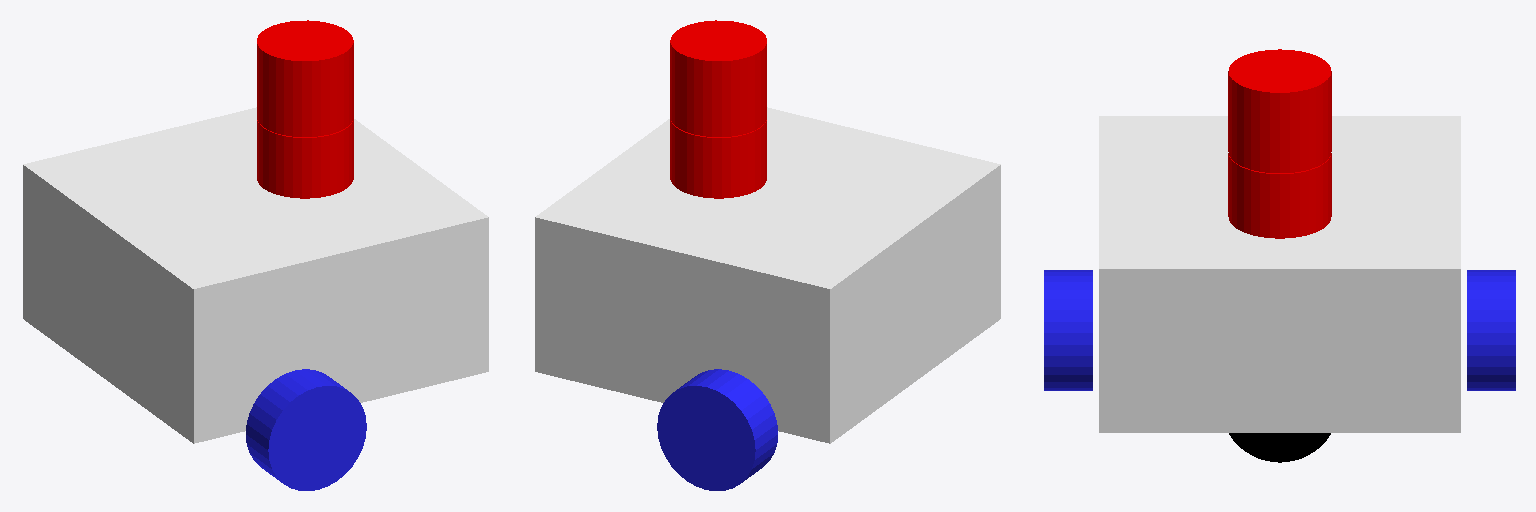
URDF robot description (robot):
<?xml version="1.0" ?>
<!-- =================================================================================== -->
<!-- |    This document was autogenerated by xacro from robot.urdf.xacro               | -->
<!-- |    EDITING THIS FILE BY HAND IS NOT RECOMMENDED                                 | -->
<!-- =================================================================================== -->
<robot name="robot">
  <!-- Specify some standard inertial calculations https://en.wikipedia.org/wiki/List_of_moments_of_inertia -->
  <!-- These make use of xacro's mathematical functionality -->
  <material name="white">
    <color rgba="1 1 1 1"/>
  </material>
  <material name="orange">
    <color rgba="1 0.3 0.1 1"/>
  </material>
  <material name="blue">
    <color rgba="0.2 0.2 1 1"/>
  </material>
  <material name="black">
    <color rgba="0 0 0 1"/>
  </material>
  <material name="red">
    <color rgba="1 0 0 1"/>
  </material>
  <!-- BASE LINK -->
  <link name="base_link">
    <visual>
      <geometry>
        <box size="0.01 0.01 0.01"/>
        <!-- Hộp nhỏ làm frame gốc -->
      </geometry>
    </visual>
    <collision>
      <geometry>
        <box size="0.01 0.01 0.01"/>
      </geometry>
    </collision>
    <inertial>
      <mass value="0.01"/>
      <inertia ixx="0.000001" ixy="0" ixz="0" iyy="0.000001" iyz="0" izz="0.000001"/>
    </inertial>
  </link>
  <!-- CHASSIS LINK -->
  <joint name="chassis_joint" type="fixed">
    <parent link="base_link"/>
    <child link="chassis"/>
    <origin xyz="-0.1 0 0"/>
  </joint>
  <link name="chassis">
    <visual>
      <origin xyz="0.15 0 0.075"/>
      <geometry>
        <box size="0.3 0.3 0.15"/>
      </geometry>
      <material name="white"/>
    </visual>
    <collision>
      <origin xyz="0.15 0 0.075"/>
      <geometry>
        <box size="0.3 0.3 0.15"/>
      </geometry>
    </collision>
    <inertial>
      <origin rpy="0 0 0" xyz="0.15 0 0.075"/>
      <mass value="0.5"/>
      <inertia ixx="0.004687499999999999" ixy="0.0" ixz="0.0" iyy="0.004687499999999999" iyz="0.0" izz="0.0075"/>
    </inertial>
  </link>
  <gazebo reference="chassis">
    <material>Gazebo/Orange</material>
  </gazebo>
  <!-- LEFT WHEEL LINK -->
  <joint name="left_wheel_joint" type="continuous">
    <parent link="base_link"/>
    <child link="left_wheel"/>
    <origin rpy="-1.5707963267948966 0 0" xyz="0 0.175 0"/>
    <axis xyz="0 0 1"/>
  </joint>
  <link name="left_wheel">
    <visual>
      <geometry>
        <cylinder length="0.04" radius="0.05"/>
      </geometry>
      <material name="blue"/>
    </visual>
    <collision>
      <geometry>
        <cylinder length="0.04" radius="0.05"/>
      </geometry>
    </collision>
    <inertial>
      <origin rpy="0 0 0" xyz="0 0 0"/>
      <mass value="0.1"/>
      <inertia ixx="7.583333333333335e-05" ixy="0.0" ixz="0.0" iyy="7.583333333333335e-05" iyz="0.0" izz="0.00012500000000000003"/>
    </inertial>
  </link>
  <gazebo reference="left_wheel">
    <material>Gazebo/Blue</material>
  </gazebo>
  <!-- RIGHT WHEEL LINK -->
  <joint name="right_wheel_joint" type="continuous">
    <parent link="base_link"/>
    <child link="right_wheel"/>
    <origin rpy="1.5707963267948966 0 0" xyz="0 -0.175 0"/>
    <axis xyz="0 0 -1"/>
  </joint>
  <link name="right_wheel">
    <visual>
      <geometry>
        <cylinder length="0.04" radius="0.05"/>
      </geometry>
      <material name="blue"/>
    </visual>
    <collision>
      <geometry>
        <cylinder length="0.04" radius="0.05"/>
      </geometry>
    </collision>
    <inertial>
      <origin rpy="0 0 0" xyz="0 0 0"/>
      <mass value="0.1"/>
      <inertia ixx="7.583333333333335e-05" ixy="0.0" ixz="0.0" iyy="7.583333333333335e-05" iyz="0.0" izz="0.00012500000000000003"/>
    </inertial>
  </link>
  <gazebo reference="right_wheel">
    <material>Gazebo/Blue</material>
  </gazebo>
  <!-- CASTER WHEEL LINK -->
  <joint name="caster_wheel_joint" type="fixed">
    <parent link="chassis"/>
    <child link="caster_wheel"/>
    <origin xyz="0.24 0 0"/>
  </joint>
  <link name="caster_wheel">
    <visual>
      <geometry>
        <sphere radius="0.05"/>
      </geometry>
      <material name="black"/>
    </visual>
    <collision>
      <geometry>
        <sphere radius="0.05"/>
      </geometry>
    </collision>
    <inertial>
      <origin rpy="0 0 0" xyz="0 0 0"/>
      <mass value="0.1"/>
      <inertia ixx="0.00010000000000000005" ixy="0.0" ixz="0.0" iyy="0.00010000000000000005" iyz="0.0" izz="0.00010000000000000005"/>
    </inertial>
  </link>
  <gazebo reference="caster_wheel">
    <material>Gazebo/Black</material>
    <mu1 value="0.001"/>
    <mu2 value="0.001"/>
  </gazebo>
  <gazebo>
    <plugin filename="libgazebo_ros_diff_drive.so" name="diff_drive">
      <!-- Wheel Information -->
      <left_joint>left_wheel_joint</left_joint>
      <right_joint>right_wheel_joint</right_joint>
      <wheel_separation>0.35</wheel_separation>
      <wheel_diameter>0.1</wheel_diameter>
      <!-- Limits -->
      <max_wheel_torque>200</max_wheel_torque>
      <max_wheel_acceleration>10.0</max_wheel_acceleration>
      <!-- Output -->
      <odometry_frame>odom</odometry_frame>
      <robot_base_frame>base_link</robot_base_frame>
      <publish_odom>true</publish_odom>
      <publish_odom_tf>true</publish_odom_tf>
      <publish_wheel_tf>true</publish_wheel_tf>
      <!-- Topics -->
      <command_topic>/cmd_vel</command_topic>
      <odometry_topic>/odom</odometry_topic>
    </plugin>
  </gazebo>
  <joint name="lidar_base_joint" type="fixed">
    <parent link="chassis"/>
    <child link="base"/>
    <origin rpy="0 0 0" xyz="0.2 0 0.18"/>
  </joint>
  <link name="base">
    <visual>
      <geometry>
        <cylinder length="0.05867" radius="0.04267"/>
      </geometry>
      <material name="red"/>
    </visual>
    <collision>
      <geometry>
        <cylinder length="0.05867" radius="0.04267"/>
      </geometry>
    </collision>
    <inertial>
      <origin rpy="0 0 0" xyz="0 0 0"/>
      <mass value="1.2"/>
      <inertia ixx="0.00089043556" ixy="0.0" ixz="0.0" iyy="0.00089043556" iyz="0.0" izz="0.00109243734"/>
    </inertial>
  </link>
  <gazebo reference="base">
    <material>Gazebo/Red</material>
  </gazebo>
  <joint name="laser_joint" type="fixed">
    <parent link="base"/>
    <child link="top"/>
    <origin rpy="0 0 0" xyz="0 0 0.067"/>
  </joint>
  <link name="top">
    <visual>
      <geometry>
        <cylinder length="0.07357" radius="0.04267"/>
      </geometry>
      <material name="red"/>
    </visual>
    <collision>
      <geometry>
        <cylinder length="0.07357" radius="0.04267"/>
      </geometry>
    </collision>
    <inertial>
      <origin rpy="0 0 0" xyz="0 0 0"/>
      <mass value="0.1"/>
      <inertia ixx="9.062276333333332e-05" ixy="0.0" ixz="0.0" iyy="9.062276333333332e-05" iyz="0.0" izz="9.103644500000001e-05"/>
    </inertial>
  </link>
  <!--
    <gazebo reference="top">
        <material>Gazebo/Red</material>

        <sensor name="laser" type="ray">
            <pose> 0 0 0 0 0 0 </pose>
            <visualize>true</visualize>
            <update_rate>10</update_rate>

            <ray>
                <scan>
                    <horizontal>
                        <samples>360</samples>
                        <min_angle>-3.14</min_angle>
                        <max_angle>3.14</max_angle>
                    </horizontal>
                </scan>

                <range>
                    <min>0.3</min>
                    <max>12</max>
                </range>
            </ray>

            <plugin name="laser_controller" filename="libgazebo_ros_ray_sensor.so">
                <ros>
                    <argument>~/out:=scan</argument>
                </ros>
                <output_type>sensor_msgs/LaserScan</output_type>
                <frame_name>top</frame_name>
            </plugin>
        </sensor>
    </gazebo>
-->
  <!--
    <gazebo reference="top">
        <material>Gazebo/Red</material>

        <sensor name="laser" type="ray">
            <pose>0.0 0.0 0.0 0.0 0.0 0.0</pose>
            <visualize>true</visualize>
            <update_rate>10</update_rate>

            <ray>
                <scan>
                    <horizontal>
                        <samples>300</samples>
                        <min_angle>-0.5236</min_angle>
                        <max_angle>0.5236</max_angle>
                    </horizontal>

                    <vertical>
                        <samples>100</samples>
                        <min_angle>-0.5236</min_angle>
                        <max_angle>0.5236</max_angle>
                    </vertical>
                </scan>

                <range>
                    <min>0.05</min>
                    <max>50.0</max>
                </range>
            </ray>

            <plugin name="RayPlugin" filename="libgazebo_ros_block_laser.so">
                <ros>
                    <argument>~/out:=scan</argument>
                </ros>
                <output_type>sensor_msgs/PointCloud2</output_type>
                <frameName>top</frameName>
            </plugin>
        </sensor>
    </gazebo>
-->
  <gazebo reference="top">
    <material>Gazebo/Red</material>
    <sensor name="velodyne2-HDL32E" type="ray">
      <pose>0 0 0 0 0 0</pose>
      <visualize>false</visualize>
      <update_rate>10</update_rate>
      <ray>
        <scan>
          <horizontal>
            <samples>220</samples>
            <resolution>1</resolution>
            <min_angle>-3.142</min_angle>
            <max_angle>3.142</max_angle>
          </horizontal>
          <vertical>
            <samples>32</samples>
            <resolution>1</resolution>
            <min_angle>-0.535</min_angle>
            <max_angle> 0.186</max_angle>
          </vertical>
        </scan>
        <range>
          <min>0.3</min>
          <max>131.0</max>
          <resolution>0.001</resolution>
        </range>
        <noise>
          <type>gaussian</type>
          <mean>0.0</mean>
          <stddev>0.0</stddev>
        </noise>
      </ray>
      <plugin filename="libgazebo_ros_velodyne_laser.so" name="gazebo_ros_laser_controller">
        <ros>
          <namespace>/velodyne2</namespace>
          <remapping>~/out:=velodyne_points2</remapping>
        </ros>
        <frame_name>top</frame_name>
        <organize_cloud>false</organize_cloud>
        <min_range>0.9</min_range>
        <max_range>130.0</max_range>
        <gaussian_noise>0.008</gaussian_noise>
      </plugin>
    </sensor>
  </gazebo>
</robot>

--- What the picture shows (computed from the rendered views, not written in the file) ---
3 views of the same robot in one strip: view 1: azimuth 30°, elevation 25°; view 2: azimuth 150°, elevation 25°; view 3: azimuth 270°, elevation 25° (orthographic).
Robot: robot — 7 links, 6 joints (2 continuous, 4 fixed); root link base_link; default pose: all joints at 0.
Visible links, largest first — view 1: chassis, right_wheel, top, base; view 2: chassis, left_wheel, top, base; view 3: chassis, top, base, left_wheel, right_wheel, caster_wheel.
Boxes of the visible links, x1,y1,x2,y2 form: chassis: (23, 107, 488, 443); right_wheel: (246, 369, 366, 490); top: (257, 20, 353, 136); base: (257, 119, 353, 198); chassis: (535, 107, 1000, 443); left_wheel: (657, 369, 777, 490); top: (670, 20, 766, 136); base: (670, 119, 766, 198); chassis: (1099, 116, 1460, 432); top: (1228, 49, 1331, 172); base: (1228, 153, 1331, 238); left_wheel: (1467, 270, 1515, 390); right_wheel: (1044, 270, 1092, 390); caster_wheel: (1229, 433, 1330, 462).
Size in the robot's own frame: 0.3 by 0.39 by 0.3338 metres.
Geometry: primitives only (box / cylinder / sphere), no mesh files.
